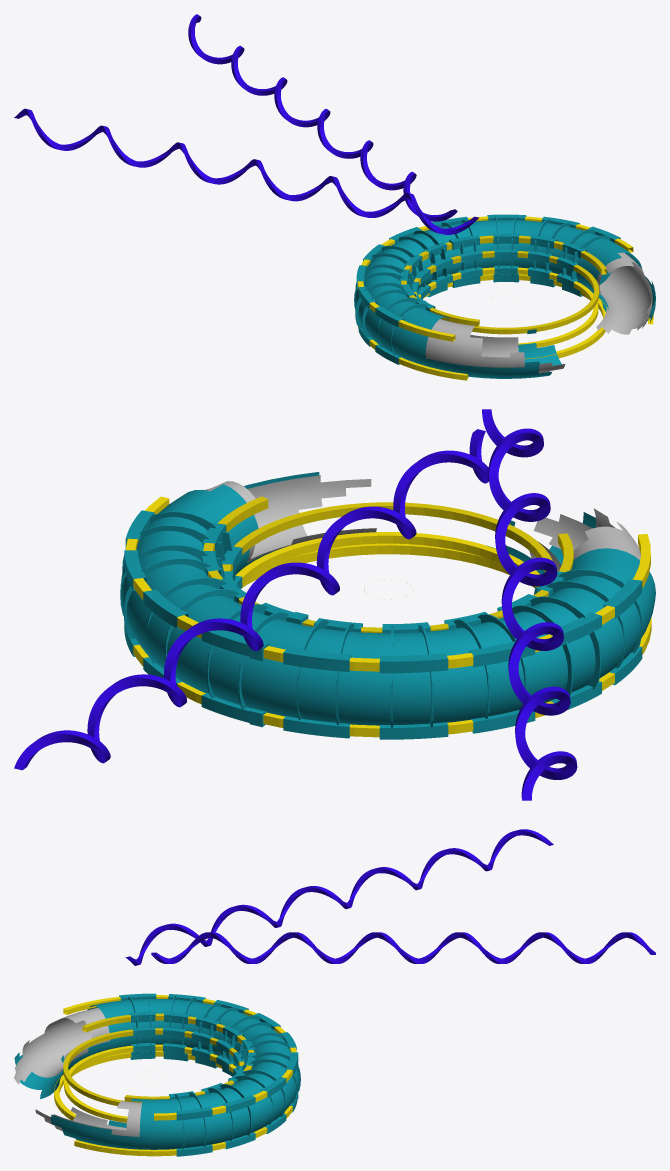
File: LHD0723.glb
The picture shows the model from 3 angles, top to bottom: view 1: azimuth 30°, elevation 25°; view 2: azimuth 150°, elevation 25°; view 3: azimuth 270°, elevation 25°; orthographic projection. The views are drawn at different scales.
Visible parts, largest first — view 1: Circle_VacuumVesselOutside, Circle_VacuumVesselInside, helical_Coil001.001, helical_Coil001, Plane_PoloidalCoilUpIn.002, Plane.002, Plane_PoloidalCoilDownIn, Plane_PoloidalCoilUpIn.001, Plane_PoloidalCoilUpOut, Plane.003, Plane.001, Plane.004 (+7 smaller); view 2: Circle_VacuumVesselOutside, helical_Coil001.001, helical_Coil001, Circle_VacuumVesselInside, Plane_PoloidalCoilUpIn.002, Plane_PoloidalCoilDownIn, Plane_PoloidalCoilUpOut, Plane.008, Plane.007, Plane_PoloidalCoilDownIn.001, Plane_PoloidalCoilDownOut, Plane_PoloidalCoilUpIn.001 (+16 smaller); view 3: Circle_VacuumVesselOutside, Circle_VacuumVesselInside, helical_Coil001, helical_Coil001.001, Plane_PoloidalCoilUpIn.002, Plane_PoloidalCoilDownIn, Plane_PoloidalCoilUpOut, Plane.005, Plane.006, Plane_PoloidalCoilDownOut, Plane_PoloidalCoilUpIn.001, Plane.009 (+6 smaller).
Boxes of the visible parts, x1,y1,x2,y2 form: Circle_VacuumVesselOutside: [354, 220, 655, 378]; Circle_VacuumVesselInside: [425, 252, 652, 373]; helical_Coil001.001: [14, 108, 478, 234]; helical_Coil001: [188, 14, 457, 221]; Plane_PoloidalCoilUpIn.002: [414, 250, 599, 334]; Plane.002: [487, 214, 526, 282]; Plane_PoloidalCoilDownIn: [417, 267, 598, 347]; Plane_PoloidalCoilUpIn.001: [401, 235, 606, 326]; Plane_PoloidalCoilUpOut: [357, 216, 633, 341]; Plane.003: [528, 216, 579, 287]; Plane.001: [435, 216, 482, 286]; Plane.004: [557, 226, 620, 296]; Circle_VacuumVesselOutside: [121, 472, 655, 725]; helical_Coil001.001: [482, 409, 577, 800]; helical_Coil001: [14, 429, 488, 770]; Circle_VacuumVesselInside: [205, 475, 640, 571]; Plane_PoloidalCoilUpIn.002: [222, 502, 552, 572]; Plane_PoloidalCoilDownIn: [235, 532, 539, 587]; Plane_PoloidalCoilUpOut: [126, 496, 650, 671]; Plane.008: [379, 622, 448, 739]; Plane.007: [283, 618, 362, 738]; Plane_PoloidalCoilDownIn.001: [242, 543, 535, 587]; Plane_PoloidalCoilDownOut: [133, 579, 651, 737]; Plane_PoloidalCoilUpIn.001: [203, 496, 573, 633]; Circle_VacuumVesselOutside: [14, 999, 299, 1149]; Circle_VacuumVesselInside: [14, 1007, 141, 1136]; helical_Coil001: [151, 932, 655, 963]; helical_Coil001.001: [125, 829, 553, 965]; Plane_PoloidalCoilUpIn.002: [63, 1028, 244, 1105]; Plane_PoloidalCoilDownIn: [64, 1044, 236, 1122]; Plane_PoloidalCoilUpOut: [63, 995, 296, 1120]; Plane.005: [119, 993, 156, 1059]; Plane.006: [163, 994, 205, 1061]; Plane_PoloidalCoilDownOut: [74, 1075, 292, 1156]; Plane_PoloidalCoilUpIn.001: [82, 1013, 254, 1102]; Plane.009: [191, 1000, 248, 1068].
Size of the model in its own units: 17.62 by 5.82 by 24.22.
